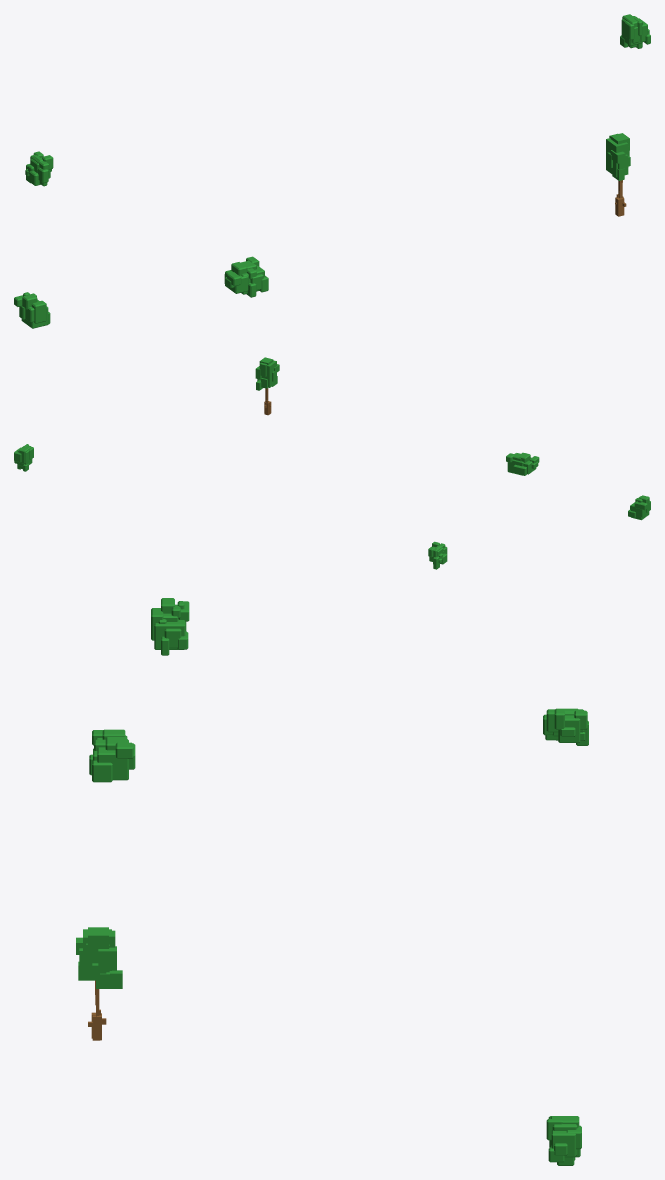
The model's file is foliage.voxel.fbx.
3 renders of one model, top to bottom at view 1: azimuth 30°, elevation 25°; view 2: azimuth 150°, elevation 25°; view 3: azimuth 270°, elevation 25°, orthographic. The views are drawn at different scales.
Visible parts, largest first — view 1: altar_bush_3, goal_sign_tree_leaves, altar_bush_2, goals_sign_bush, altar_bush; view 2: goal_sign_tree_leaves, altar_bush_3, altar_bush_2, altar_bush, goals_sign_bush; view 3: goal_sign_tree_leaves, altar_bush_3, altar_bush_2, goals_sign_bush, altar_bush.
Part boxes in pixels (x1,y1,x2,y2): altar_bush_3: (224, 256, 268, 297); goal_sign_tree_leaves: (606, 133, 630, 180); altar_bush_2: (14, 292, 50, 328); goals_sign_bush: (620, 14, 650, 48); altar_bush: (25, 151, 53, 186); goal_sign_tree_leaves: (255, 357, 279, 390); altar_bush_3: (506, 452, 539, 475); altar_bush_2: (628, 495, 650, 520); altar_bush: (428, 541, 447, 569); goals_sign_bush: (14, 444, 33, 471); goal_sign_tree_leaves: (76, 927, 122, 988); altar_bush_3: (89, 729, 135, 782); altar_bush_2: (151, 598, 189, 655); goals_sign_bush: (546, 1116, 581, 1165); altar_bush: (543, 708, 588, 745).
Size of the model in its own units: 410 by 39.43 by 170.
